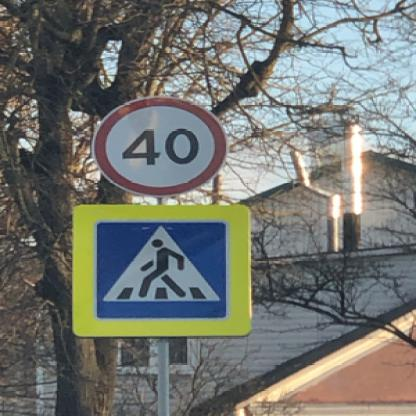crosswalk: (93, 218, 227, 318)
speedlimit: (90, 94, 225, 194)
